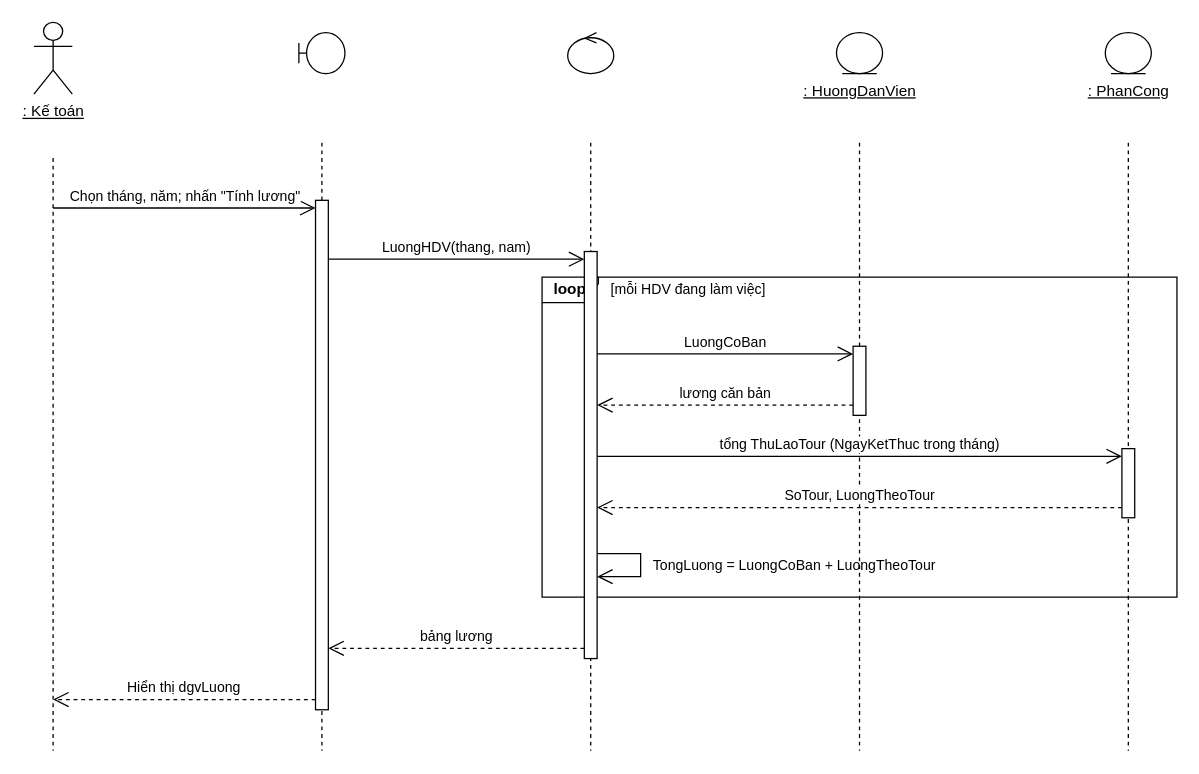
The diagram is 1199 pixels wide and 774 high, and some of its shapes have lost their labels. The shapes that lost their labels are listed below. From the top down, each one's centre as x and y in pixels, then its label:
At point (321, 52): ": FrmLuongThongKe".
At point (590, 52): ": ThongKeService".
